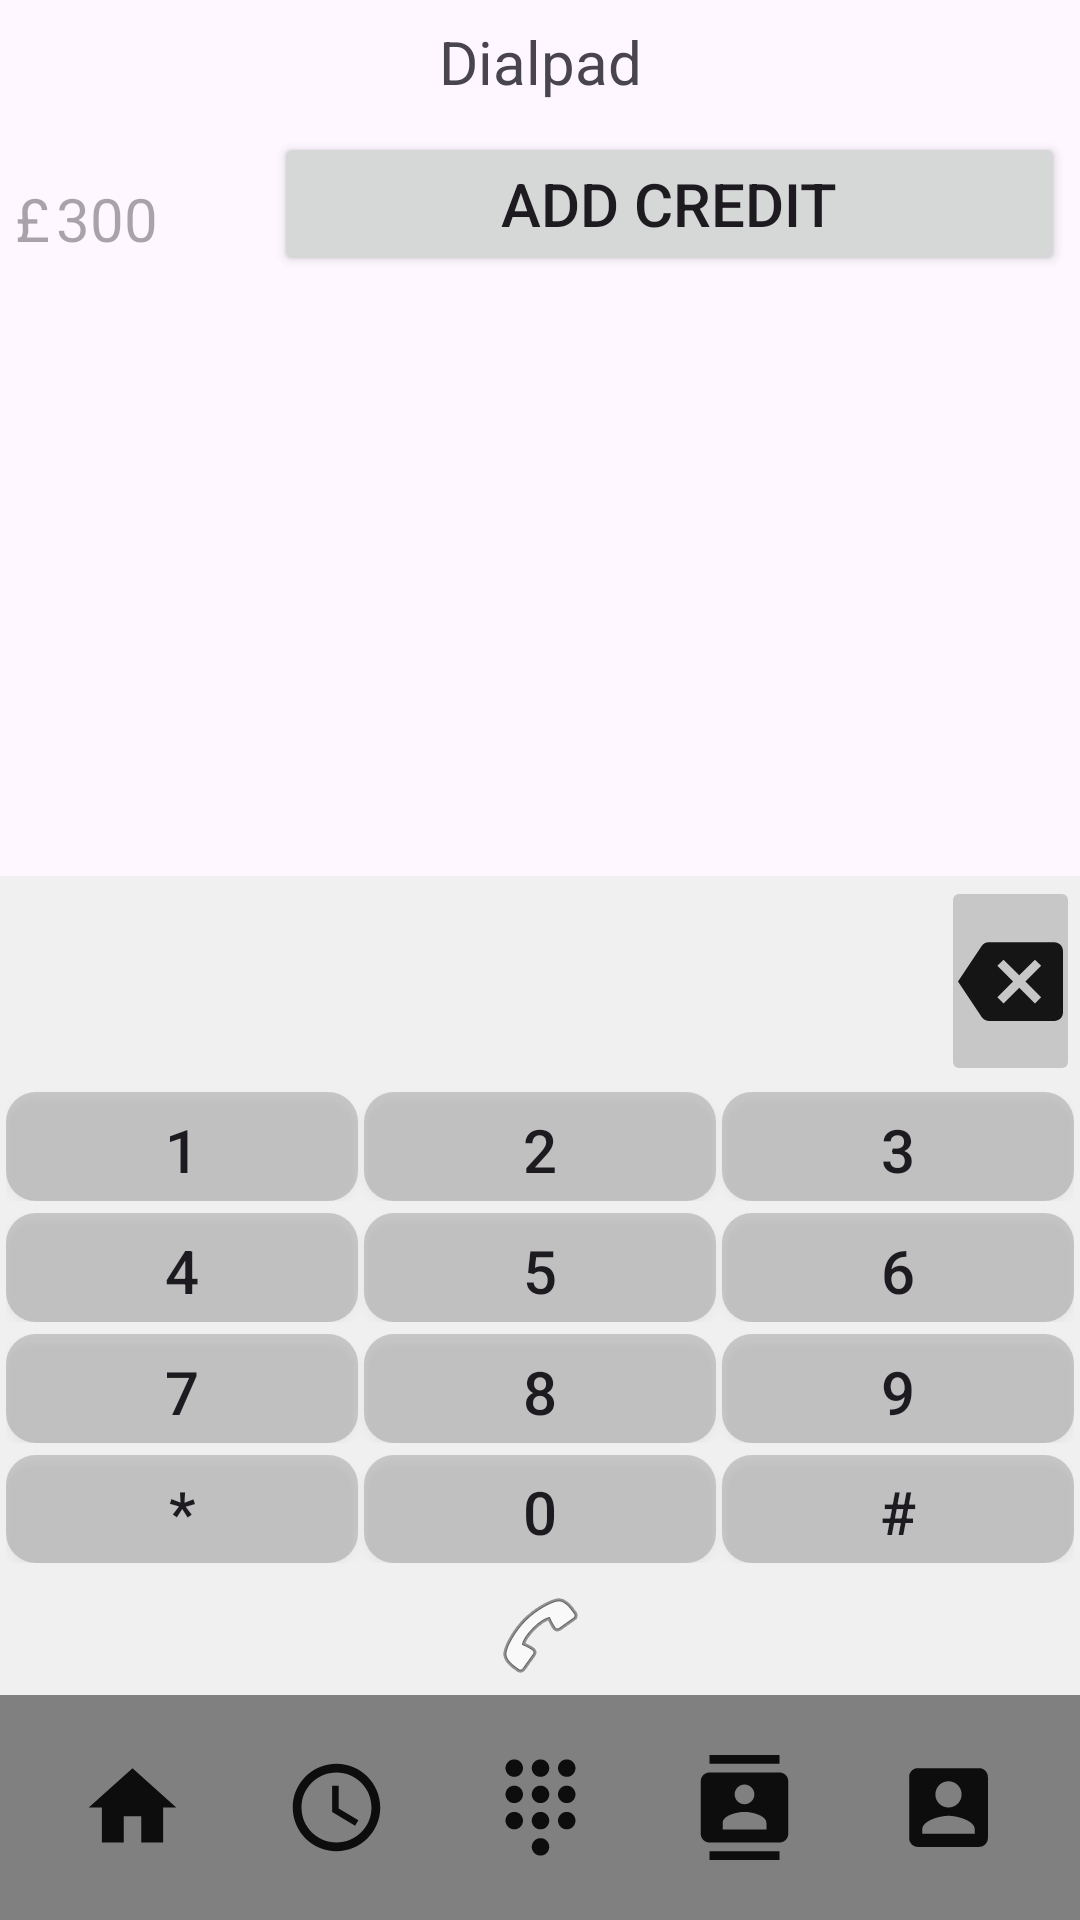

Screen size 1080 × 1920. Icon name, then its center in pixels as point (x, y):
backspace: point (1010, 981)
call button: point (540, 1635)
Contact: point (744, 1807)
Dialpad: point (540, 1807)
Home: point (132, 1805)
Profile: point (948, 1807)
Recent: point (336, 1807)
